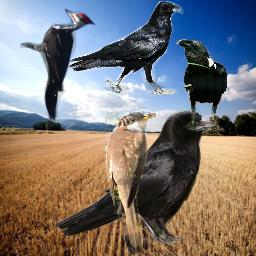Crow: (54, 110, 220, 245), (67, 1, 184, 95), (176, 39, 227, 132)
Cuckoo: (105, 112, 156, 254)
Woodpecker: (20, 8, 96, 121)
